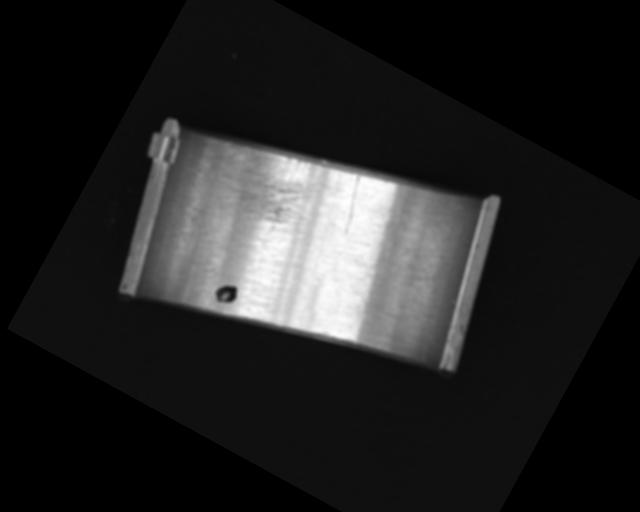blot: (211, 278, 241, 308)
nick: (384, 268, 464, 365), (329, 175, 375, 237)
scratch: (199, 117, 331, 242)
